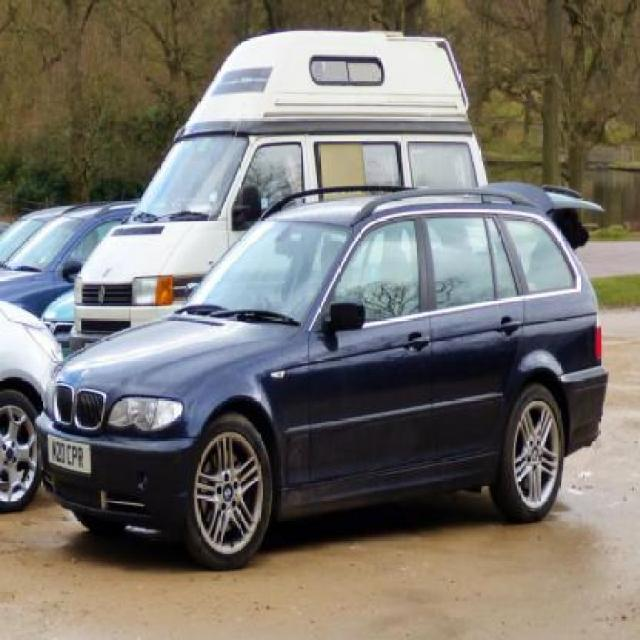License-Plates: (39, 430, 99, 479)
